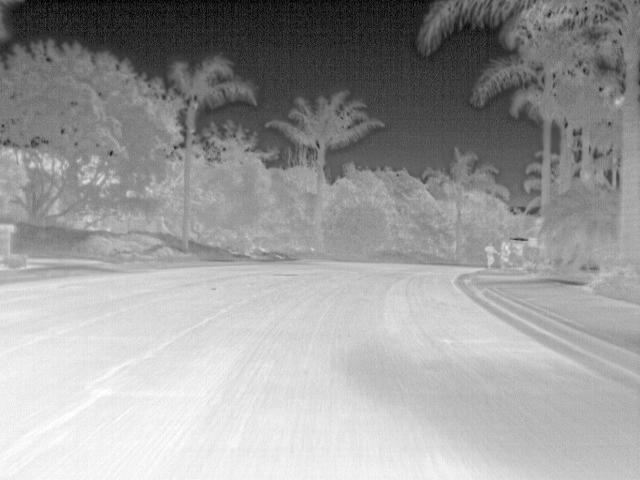person: (496, 240, 511, 269), (483, 241, 499, 268)
